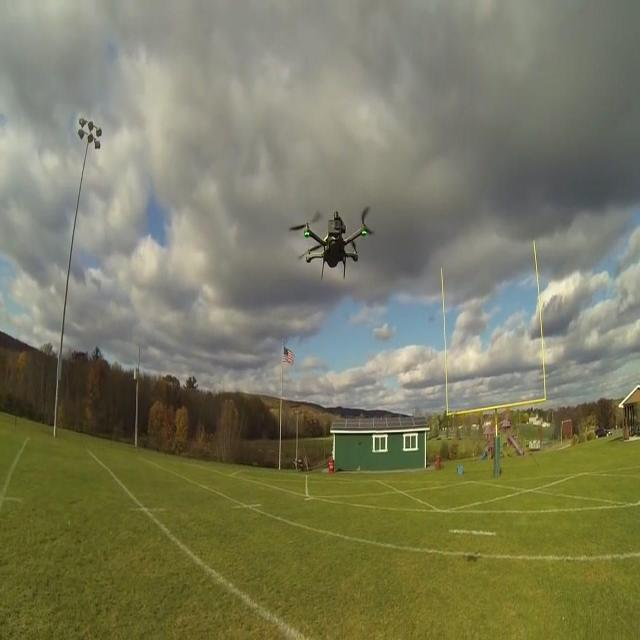UAV: (289, 206, 375, 280)
